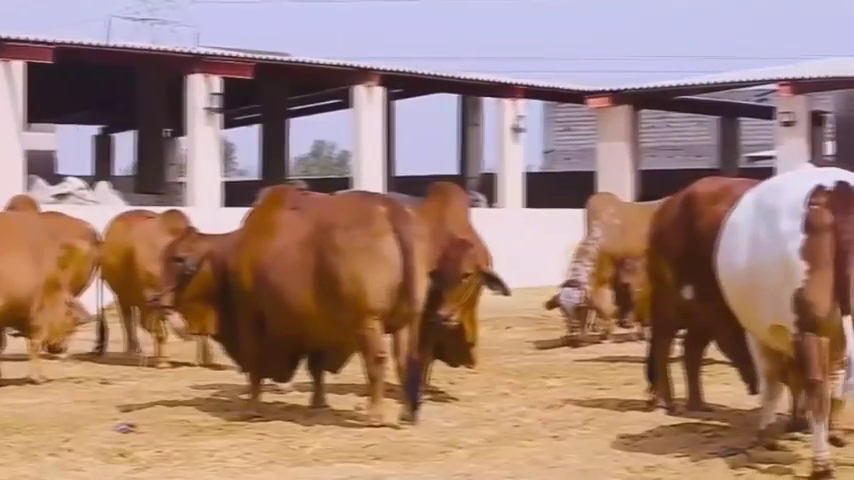bo: (138, 176, 432, 431), (715, 153, 854, 477), (369, 175, 514, 384), (634, 163, 753, 416), (98, 201, 217, 373), (534, 188, 650, 349), (1, 201, 92, 384), (605, 249, 647, 311)
